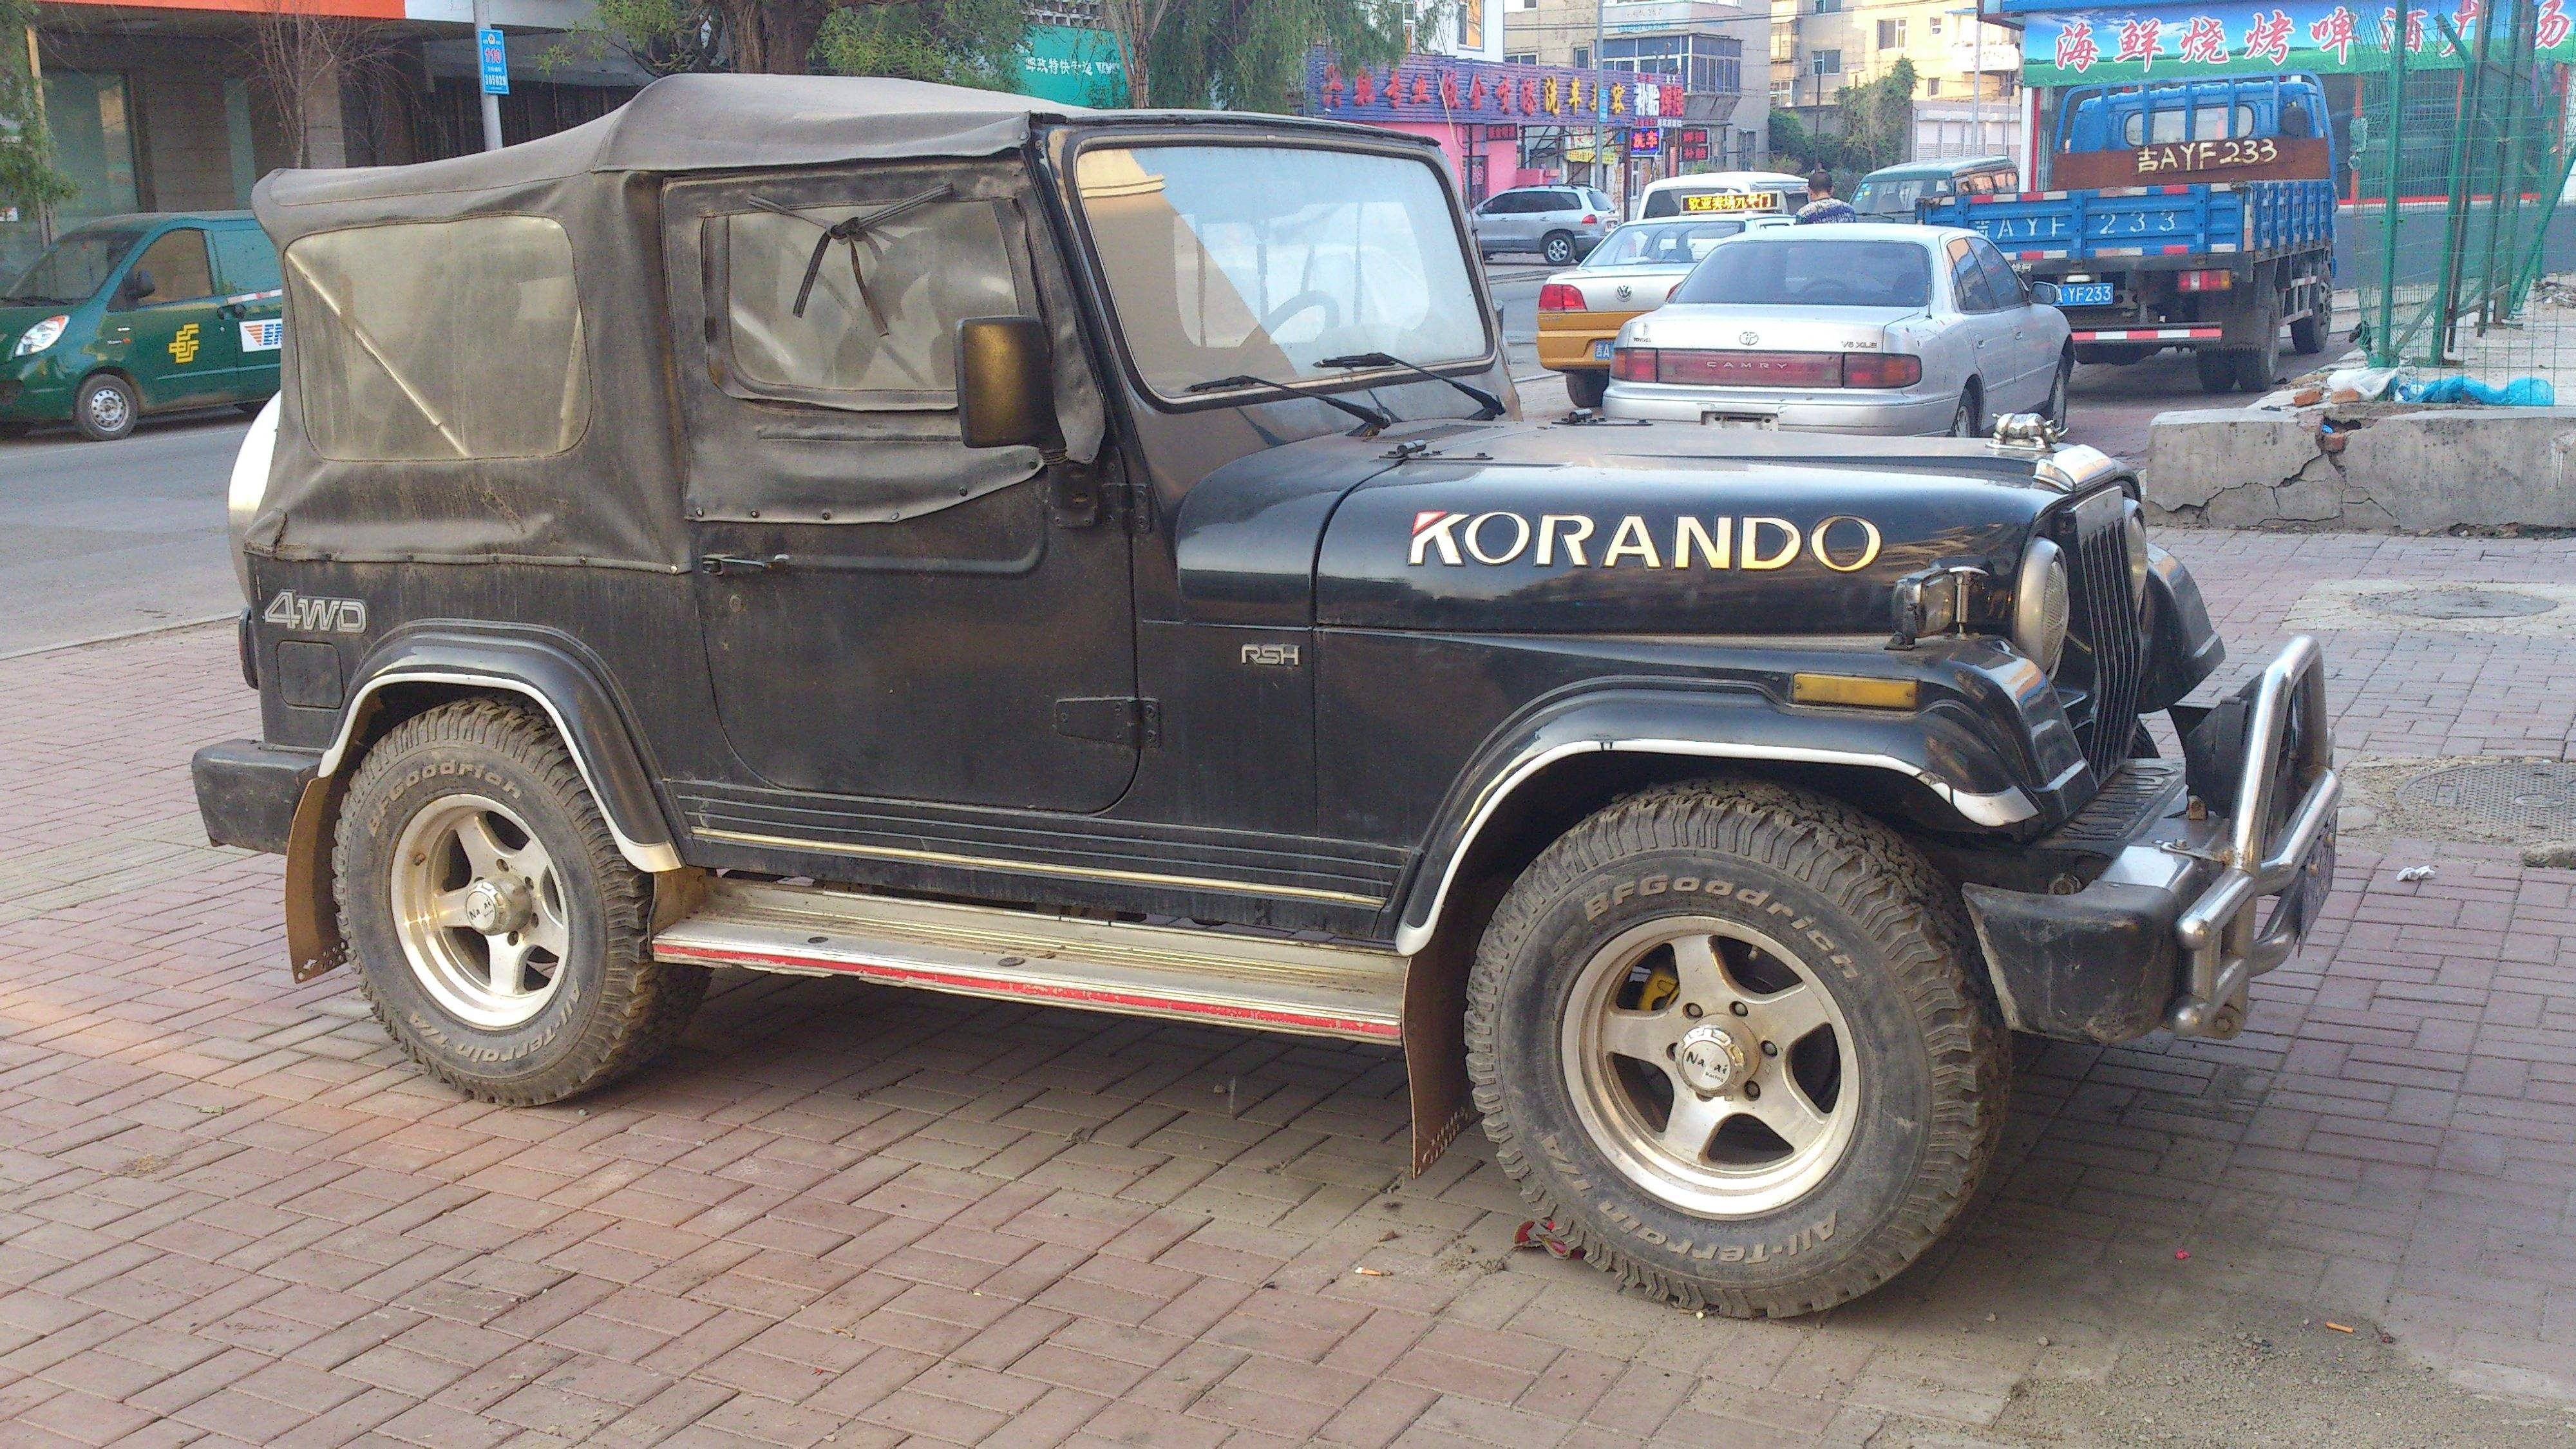jeep: (209, 65, 2353, 1290)
